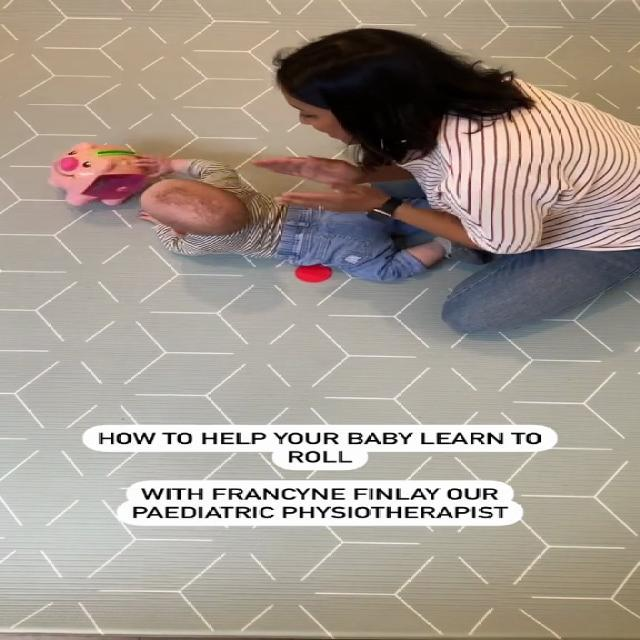baby: (130, 144, 488, 286)
